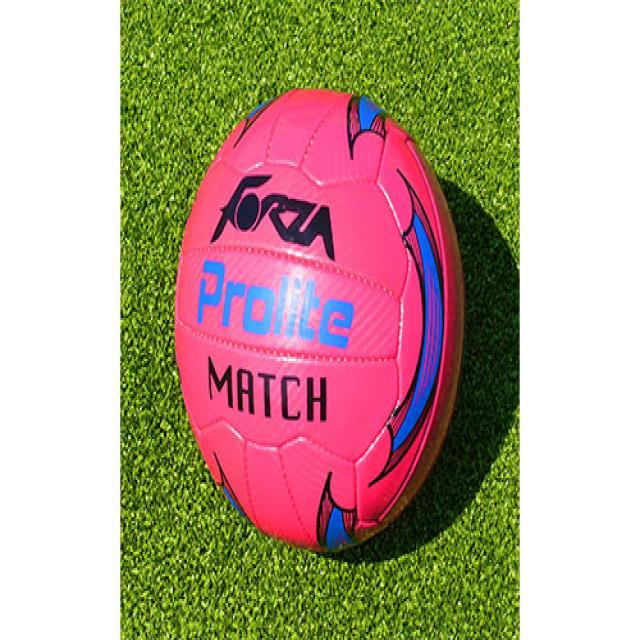soccer ball: (177, 88, 466, 552)
